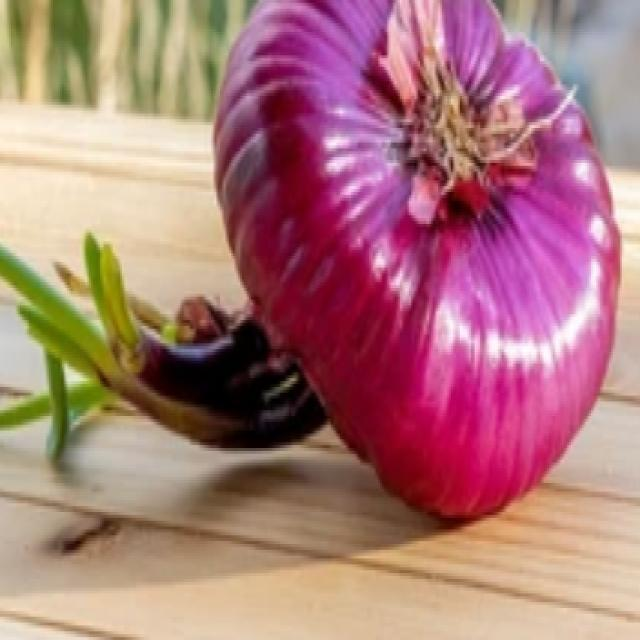sprouting: (47, 253, 324, 471)
